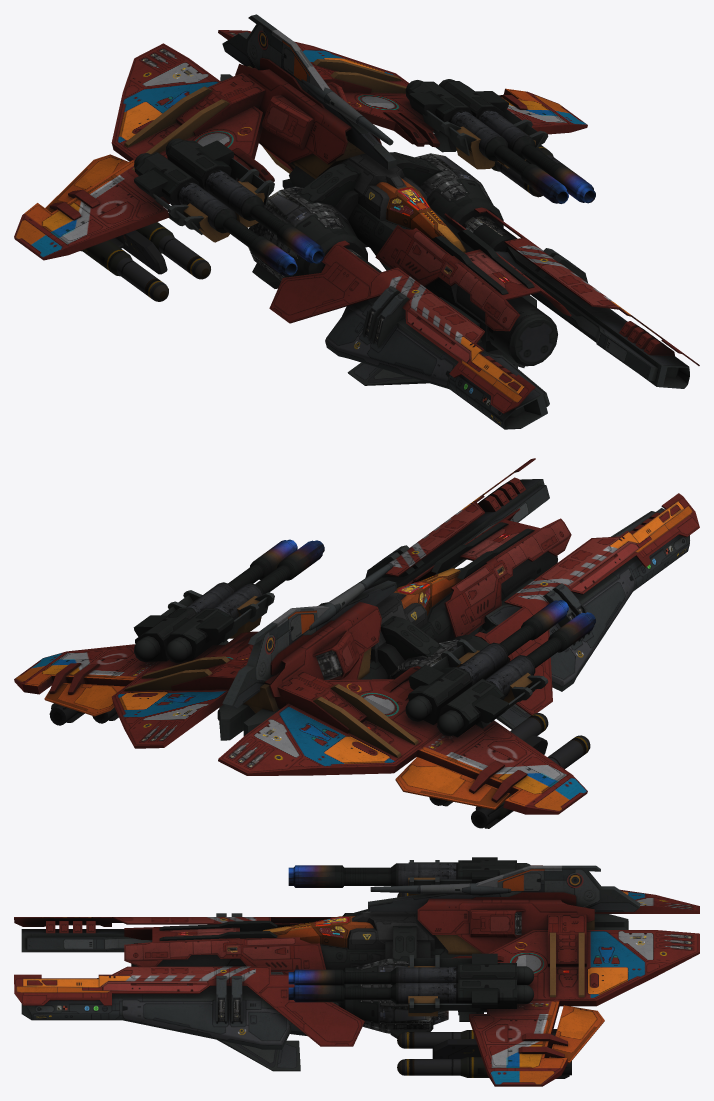
The model's file is RX7_green.FBX.
3 renders of one model, top to bottom at view 1: azimuth 30°, elevation 25°; view 2: azimuth 150°, elevation 25°; view 3: azimuth 270°, elevation 25°, orthographic. The views are drawn at different scales.
Visible parts, largest first — view 1: Fiighter_RX7, RX7_Laser2, RX7_Laser1, RX7_Missil-4, RX7_Missil-3, RX7_Rack2; view 2: Fiighter_RX7, RX7_Laser2, RX7_Laser1, RX7_Missil-4, RX7_Missil-3; view 3: Fiighter_RX7, RX7_Laser1, RX7_Laser2, RX7_Missil-1, RX7_Missil-2, RX7_Rack1.
Part boxes in pixels (x1,y1,x2,y2): Fiighter_RX7: (14, 14, 699, 429); RX7_Laser2: (177, 169, 324, 275); RX7_Laser1: (448, 109, 595, 203); RX7_Missil-4: (80, 240, 168, 301); RX7_Missil-3: (136, 222, 210, 279); RX7_Rack2: (110, 230, 167, 274); Fiighter_RX7: (14, 458, 699, 814); RX7_Laser2: (458, 600, 595, 697); RX7_Laser1: (186, 539, 324, 619); RX7_Missil-4: (471, 735, 590, 828); RX7_Missil-3: (429, 713, 548, 806); Fiighter_RX7: (14, 857, 699, 1086); RX7_Laser1: (288, 967, 458, 1004); RX7_Laser2: (288, 863, 458, 887); RX7_Missil-1: (397, 1057, 571, 1078); RX7_Missil-2: (397, 1029, 556, 1048); RX7_Rack1: (432, 1039, 481, 1058).
Size of the model in its own units: 171 by 227 by 62.07.
2 materials, 2 textured.
